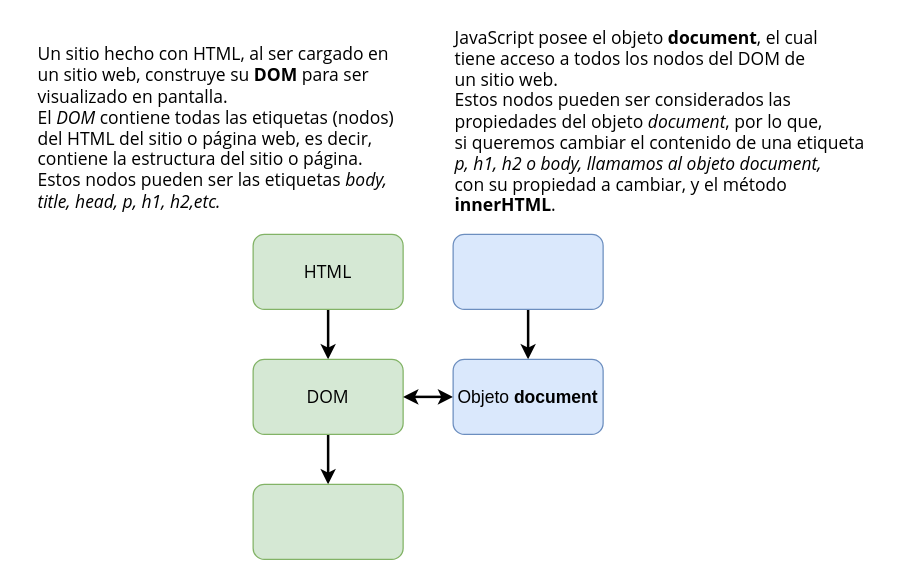
This 899x581 diagram has some shape labels left out. Here are the shapes that lost their labels. From the top down, the centre of each, then its label:
At (x=527, y=271): "JavaScript".
At (x=327, y=521): "Nodos (etiquetas de HTML)".
